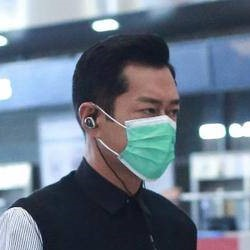mask: (80, 98, 178, 181)
